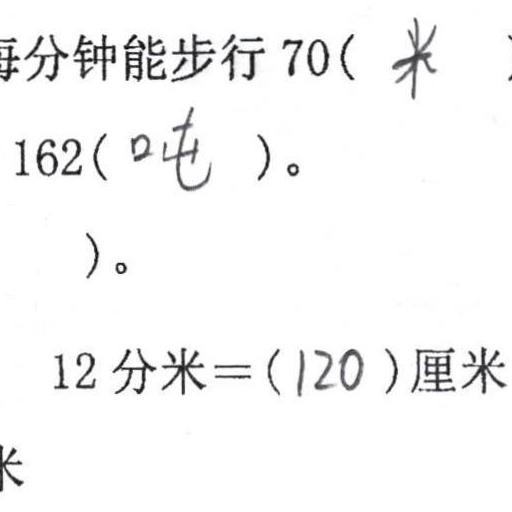ans: (127, 103, 216, 192), (388, 12, 442, 102), (289, 338, 364, 397)
